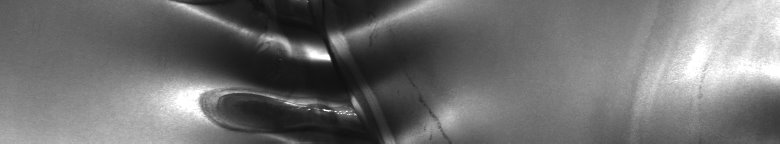ke: (168, 4, 447, 136)
